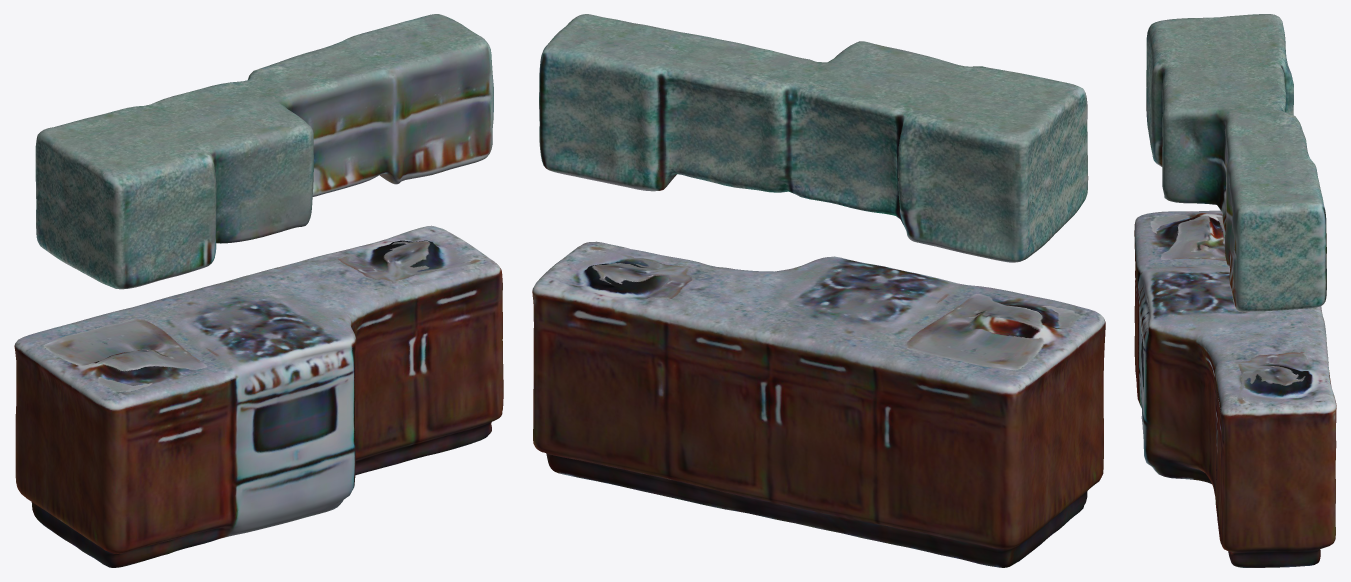
The model's file is a5633fe64817_kitchen_set_min.fbx.
3 renders of one model, left to right at view 1: azimuth 30°, elevation 25°; view 2: azimuth 150°, elevation 25°; view 3: azimuth 270°, elevation 25°, orthographic. The views are drawn at different scales.
Parts seen in each view (by area): view 1: mesh; view 2: mesh; view 3: mesh.
Part boxes in pixels (bbox=[...]): mesh: bbox=[14, 14, 503, 567]; mesh: bbox=[532, 14, 1105, 567]; mesh: bbox=[1134, 14, 1336, 567].
Bounding box in the file's own units: 99.94 × 84.56 × 42.24.
